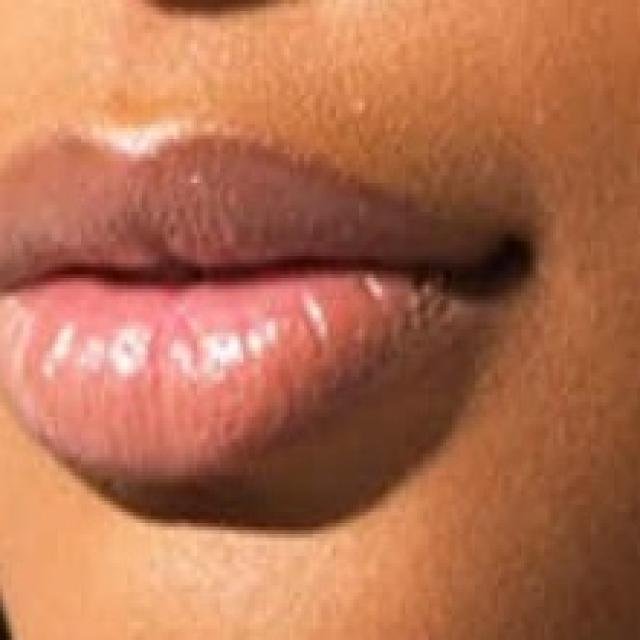closed-mouth: (0, 128, 541, 499)
